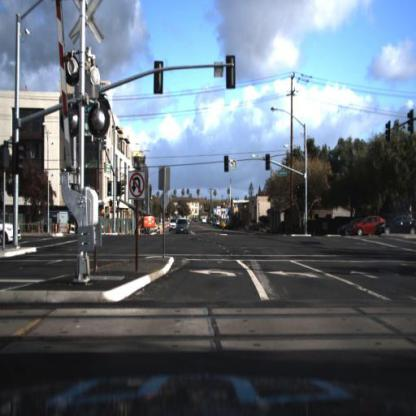car: (378, 212, 416, 235), (353, 217, 387, 235), (338, 218, 357, 236), (176, 219, 189, 233), (170, 217, 179, 237), (201, 211, 212, 227)
trafficLight-GreenLeft: (107, 180, 113, 198)
trafficLight-Red: (265, 148, 273, 175), (300, 182, 308, 205), (224, 153, 230, 174)
